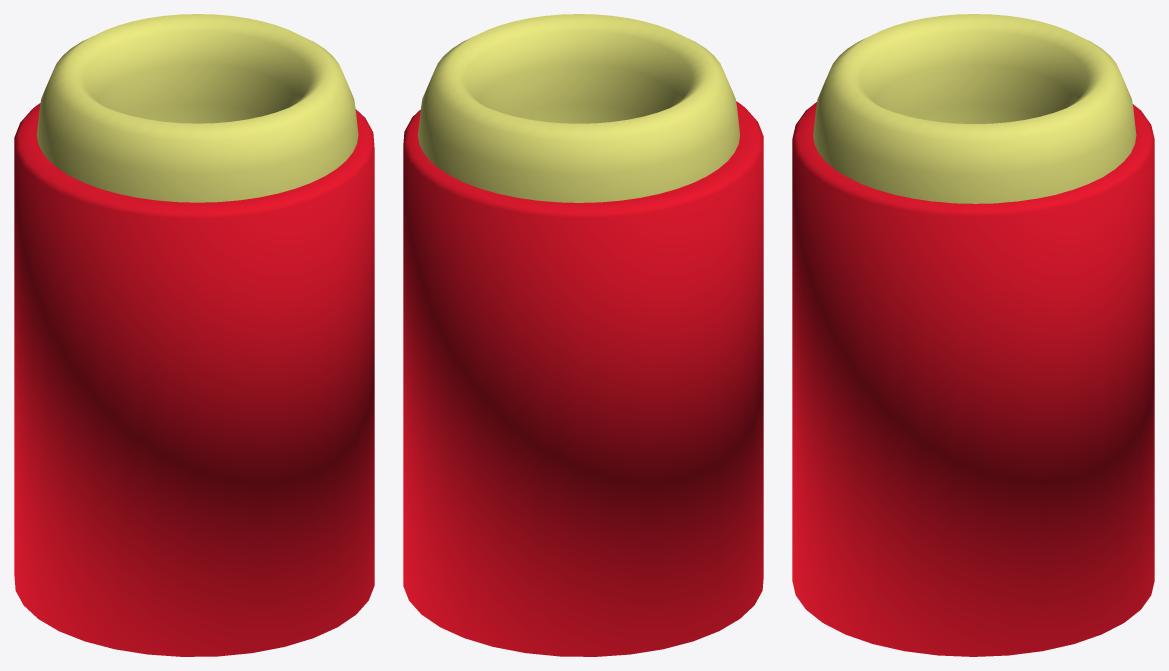
File: Contact2Button1.gltf
The picture shows the model from 3 angles, left to right: view 1: azimuth 30°, elevation 25°; view 2: azimuth 150°, elevation 25°; view 3: azimuth 270°, elevation 25°; orthographic projection.
Visible parts, largest first — view 1: Изолятор контакта #1.011; view 2: Изолятор контакта #1.011; view 3: Изолятор контакта #1.011.
Part boxes in pixels (x1=…): Изолятор контакта #1.011: x1=14, y1=14, x2=374, y2=656; Изолятор контакта #1.011: x1=403, y1=14, x2=763, y2=656; Изолятор контакта #1.011: x1=792, y1=14, x2=1154, y2=656.
Size of the model in its own units: 0.1379 by 0.2154 by 0.1379.
